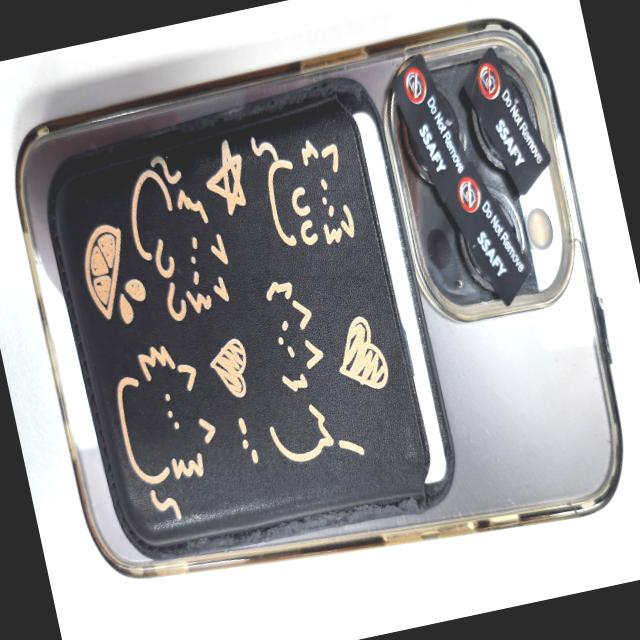phone: (0, 4, 640, 621)
sticker: (461, 42, 552, 200), (384, 45, 471, 202), (441, 169, 536, 309)
